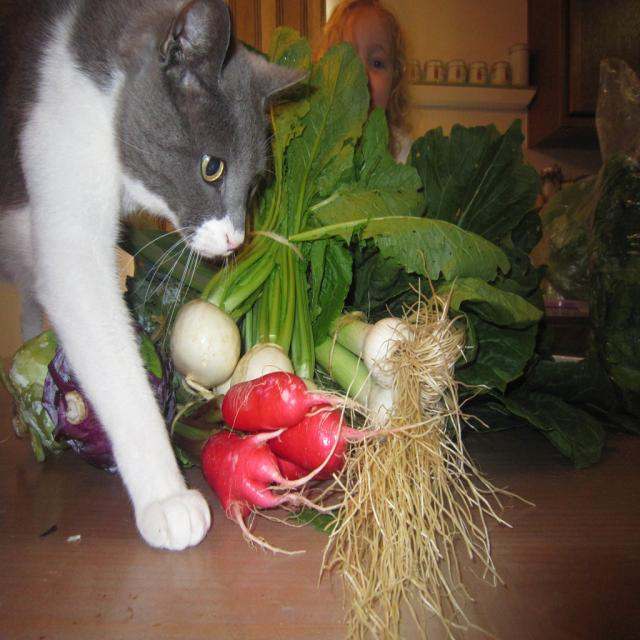Cat: (0, 1, 306, 556)
